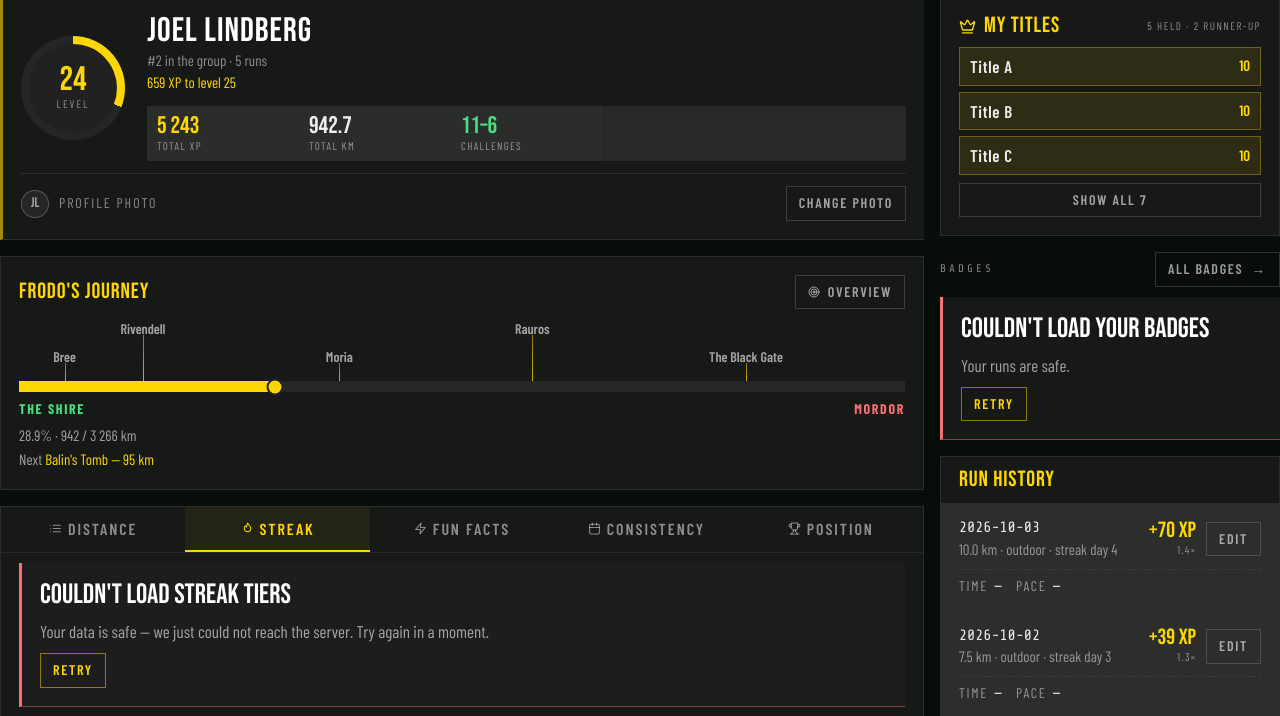
Test: Profile — statflikar (?view=) › Streak utan config: felkort med Retry — inte ett påhittat steg
The image size is (1280, 716).
Click the button "Retry" below "Couldn't load streak tiers": coordinates (73, 671) left=40, top=653, right=106, bottom=688
(page scrolled)
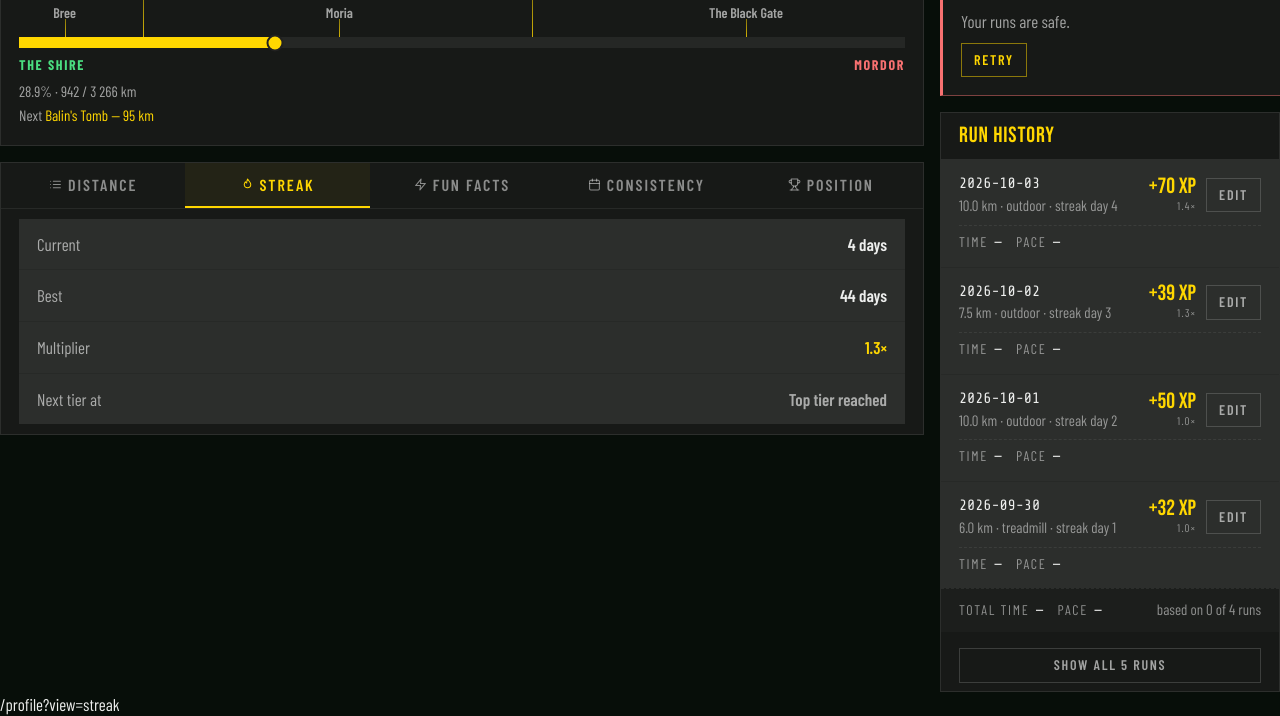
Expected: the text "Next tier at" is shown, left=37, top=387, right=102, bottom=411
